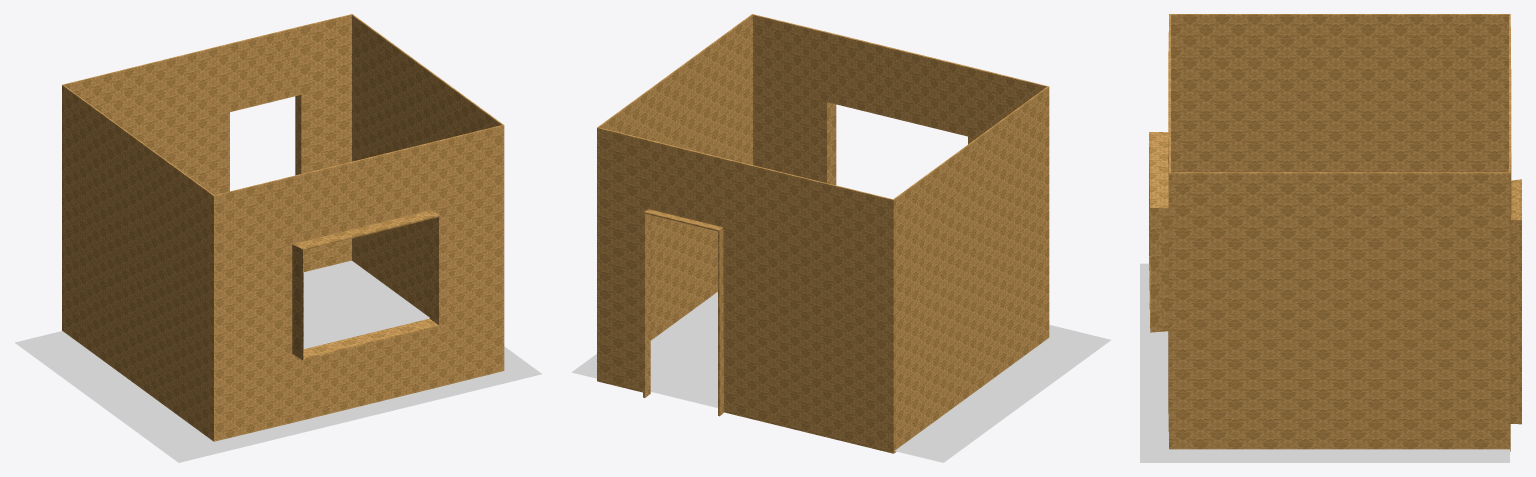
The model's file is Room_Kitchen.fbx.
3 views of the same model, side by side, from view 1: azimuth 30°, elevation 25°; view 2: azimuth 150°, elevation 25°; view 3: azimuth 270°, elevation 25° (orthographic). The views are drawn at different scales.
Visible parts, largest first — view 1: Walls.009, Plane; view 2: Walls.009, Plane; view 3: Walls.009, Plane.
Part boxes in pixels (x1,y1,x2,y2): Walls.009: (62,14,504,441); Plane: (15,260,541,462); Walls.009: (597,14,1049,453); Plane: (571,292,1110,462); Walls.009: (1149,14,1521,451); Plane: (1140,263,1509,462).
Bounding box in the file's own units: 649 × 423 × 526.
2 materials, 1 textured.
